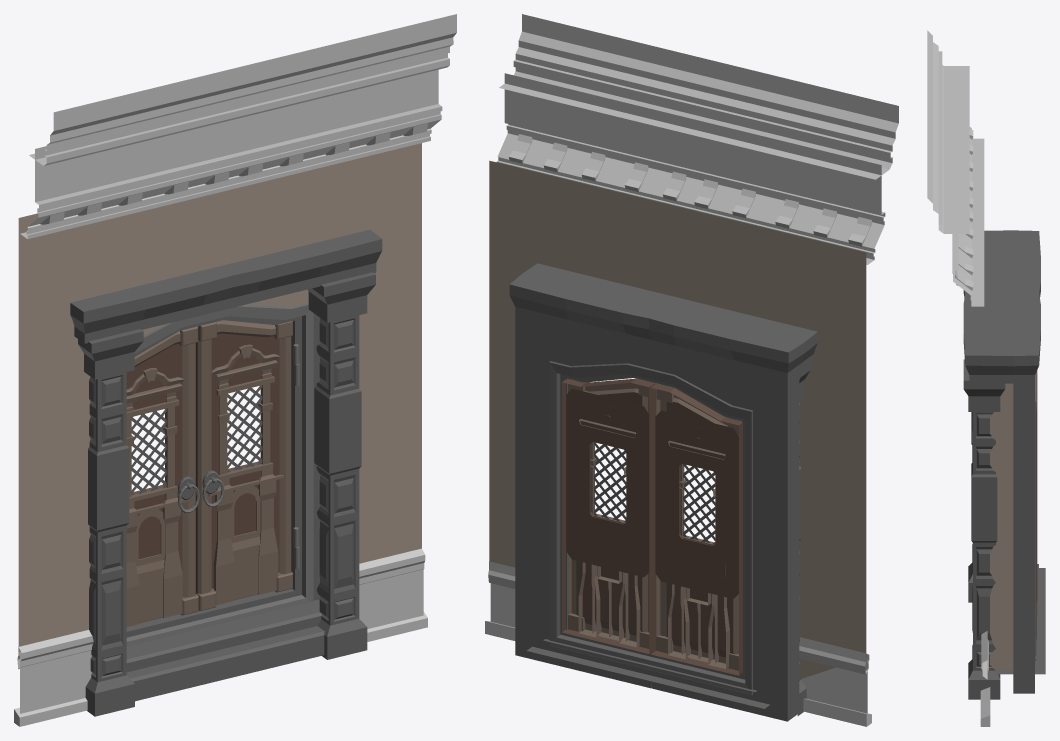
File: EntranceDoor.fbx
3 views of the same model, side by side, from view 1: azimuth 30°, elevation 25°; view 2: azimuth 150°, elevation 25°; view 3: azimuth 270°, elevation 25° (orthographic). The views are drawn at different scales.
Visible parts, largest first — view 1: MainDoor; view 2: MainDoor; view 3: MainDoor.
Boxes of the visible parts, x1=… form: MainDoor: x1=14, y1=14, x2=456, y2=726; MainDoor: x1=485, y1=14, x2=898, y2=726; MainDoor: x1=927, y1=30, x2=1045, y2=726.
Size of the model in its own units: 4.07 by 6.08 by 1.2.
